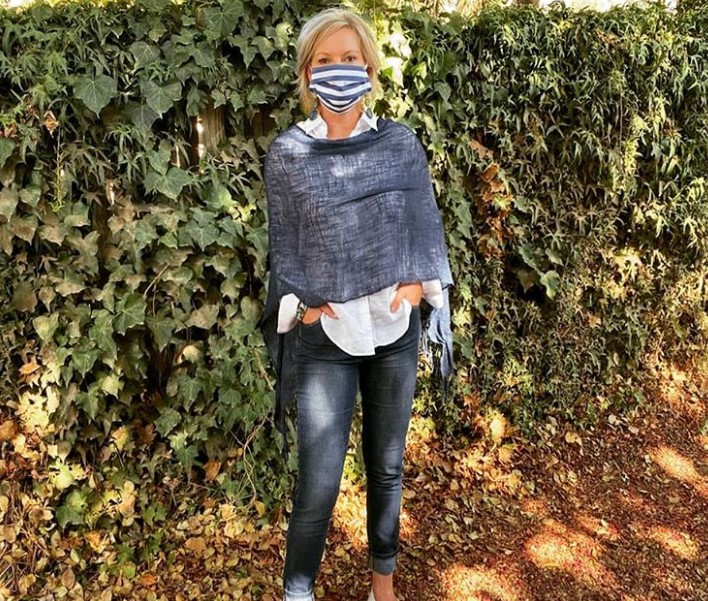face_with_mask: (296, 9, 380, 117)
